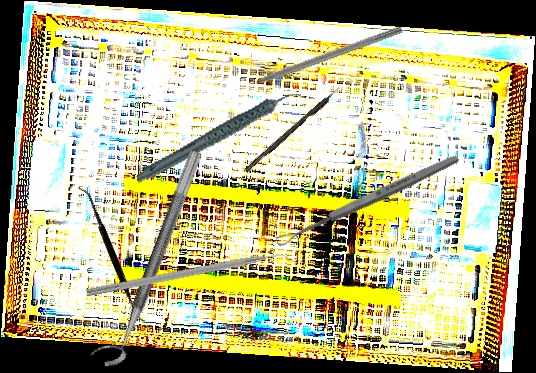Chopper: (86, 247, 298, 309)
Fixation Ring: (88, 142, 204, 372)
Handpiece: (125, 89, 313, 186)
Hook Surgical: (232, 23, 404, 95), (243, 86, 343, 173)
Spatula Surgical: (35, 185, 188, 325)
Surgical Spoon: (274, 151, 461, 249)
